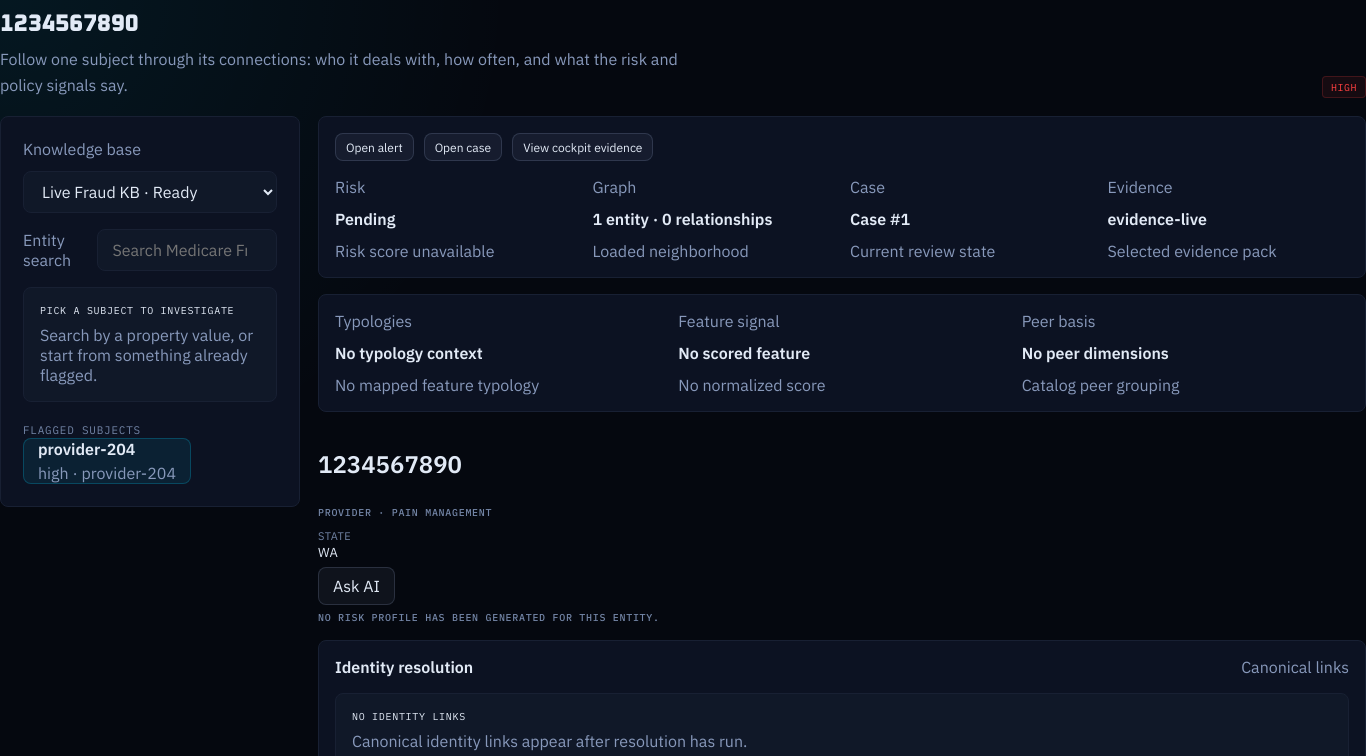
Test case: InvestigationWorkbenchPage › renders cockpit actions only for validated alert, case, and evidence context
Click the button "View cockpit evidence".
click(583, 147)  # box 512,133 -> 654,161
(page scrolled)
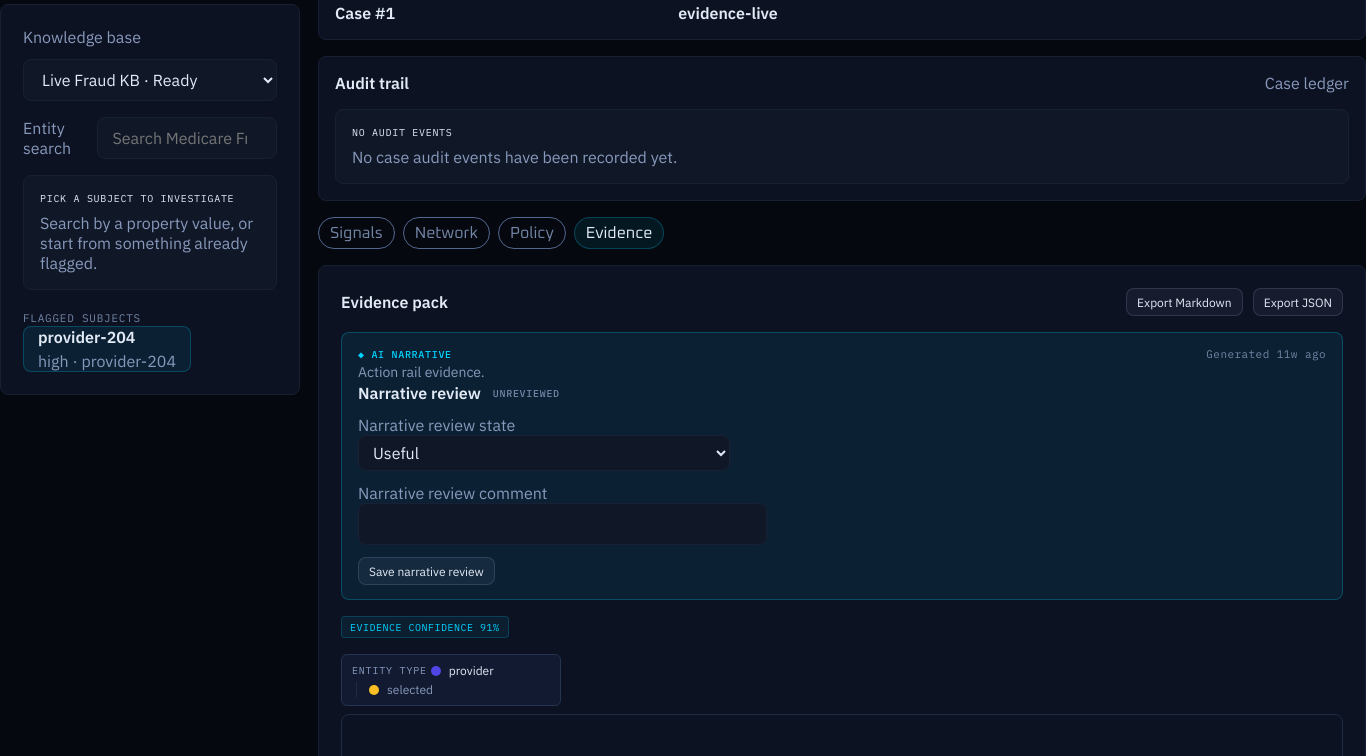
Now the text "Action rail evidence." is shown, box 358,363 -> 485,381
